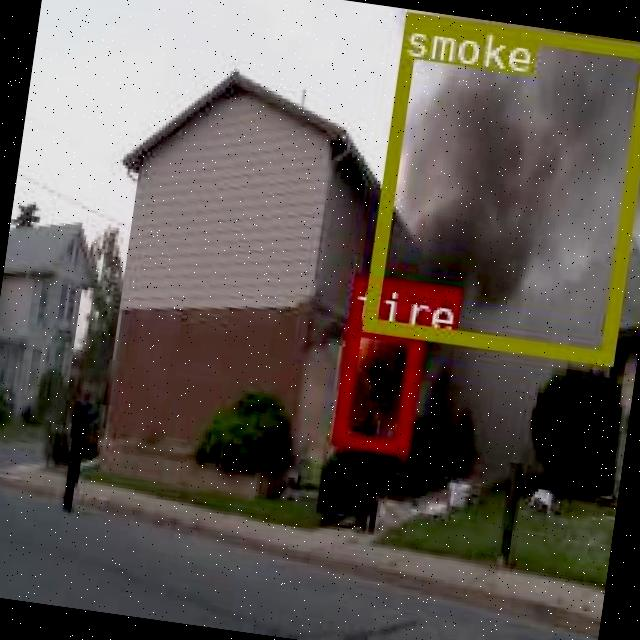fire: (330, 319, 420, 452)
smoke: (360, 10, 640, 362)
